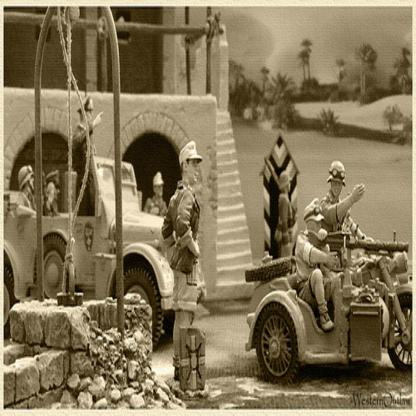face: (188, 156, 200, 185), (310, 217, 323, 240), (333, 176, 344, 197), (84, 108, 94, 129), (27, 174, 36, 192), (52, 181, 60, 201), (156, 182, 164, 196)
